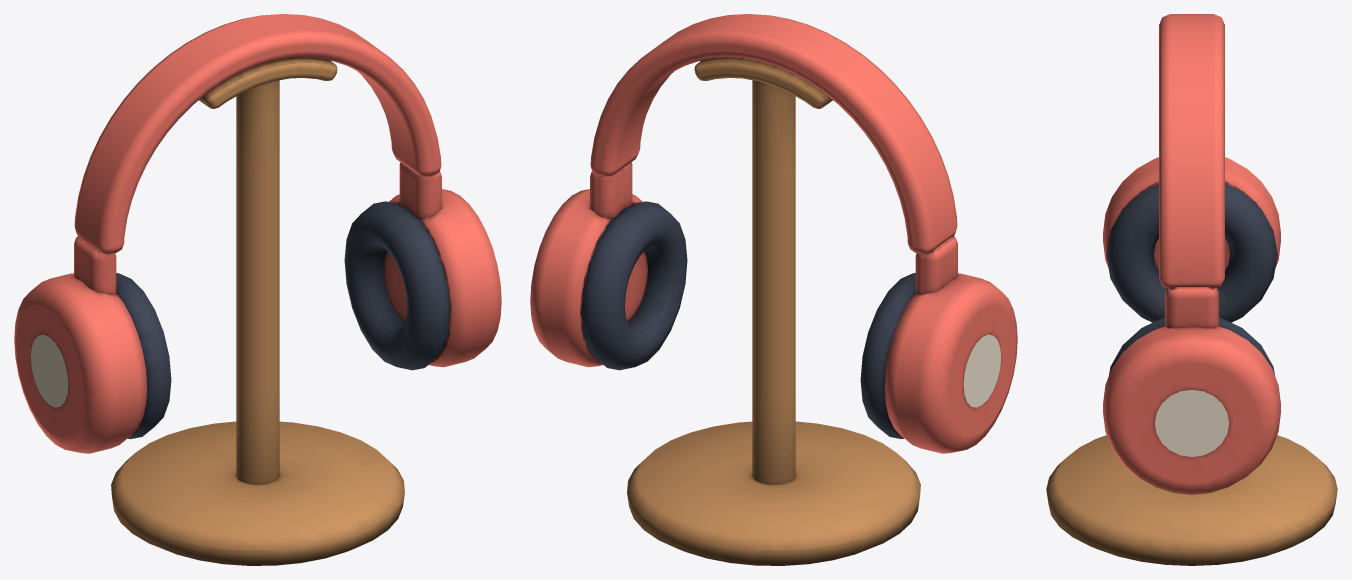
Rendered from headphones_stand.glb.
3 renders of one model, left to right at view 1: azimuth 30°, elevation 25°; view 2: azimuth 150°, elevation 25°; view 3: azimuth 270°, elevation 25°, orthographic.
Parts seen in each view (by area): view 1: headphones_stand; view 2: headphones_stand; view 3: headphones_stand.
Part boxes in pixels (x1=…): headphones_stand: x1=14, y1=14, x2=501, y2=565; headphones_stand: x1=530, y1=14, x2=1017, y2=565; headphones_stand: x1=1046, y1=14, x2=1337, y2=565.
Size of the model in its own units: 0.2304 by 0.255 by 0.141.
Materials: 4 (4 with a texture image).
